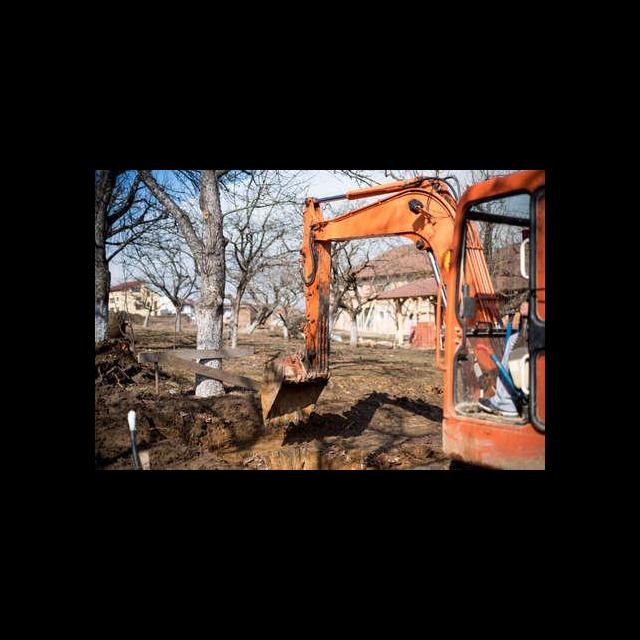Excavator: (259, 170, 542, 466)
Person: (477, 299, 529, 417)
